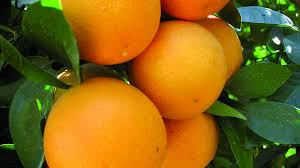orange: (41, 79, 169, 168), (127, 21, 227, 117), (54, 1, 166, 64)
